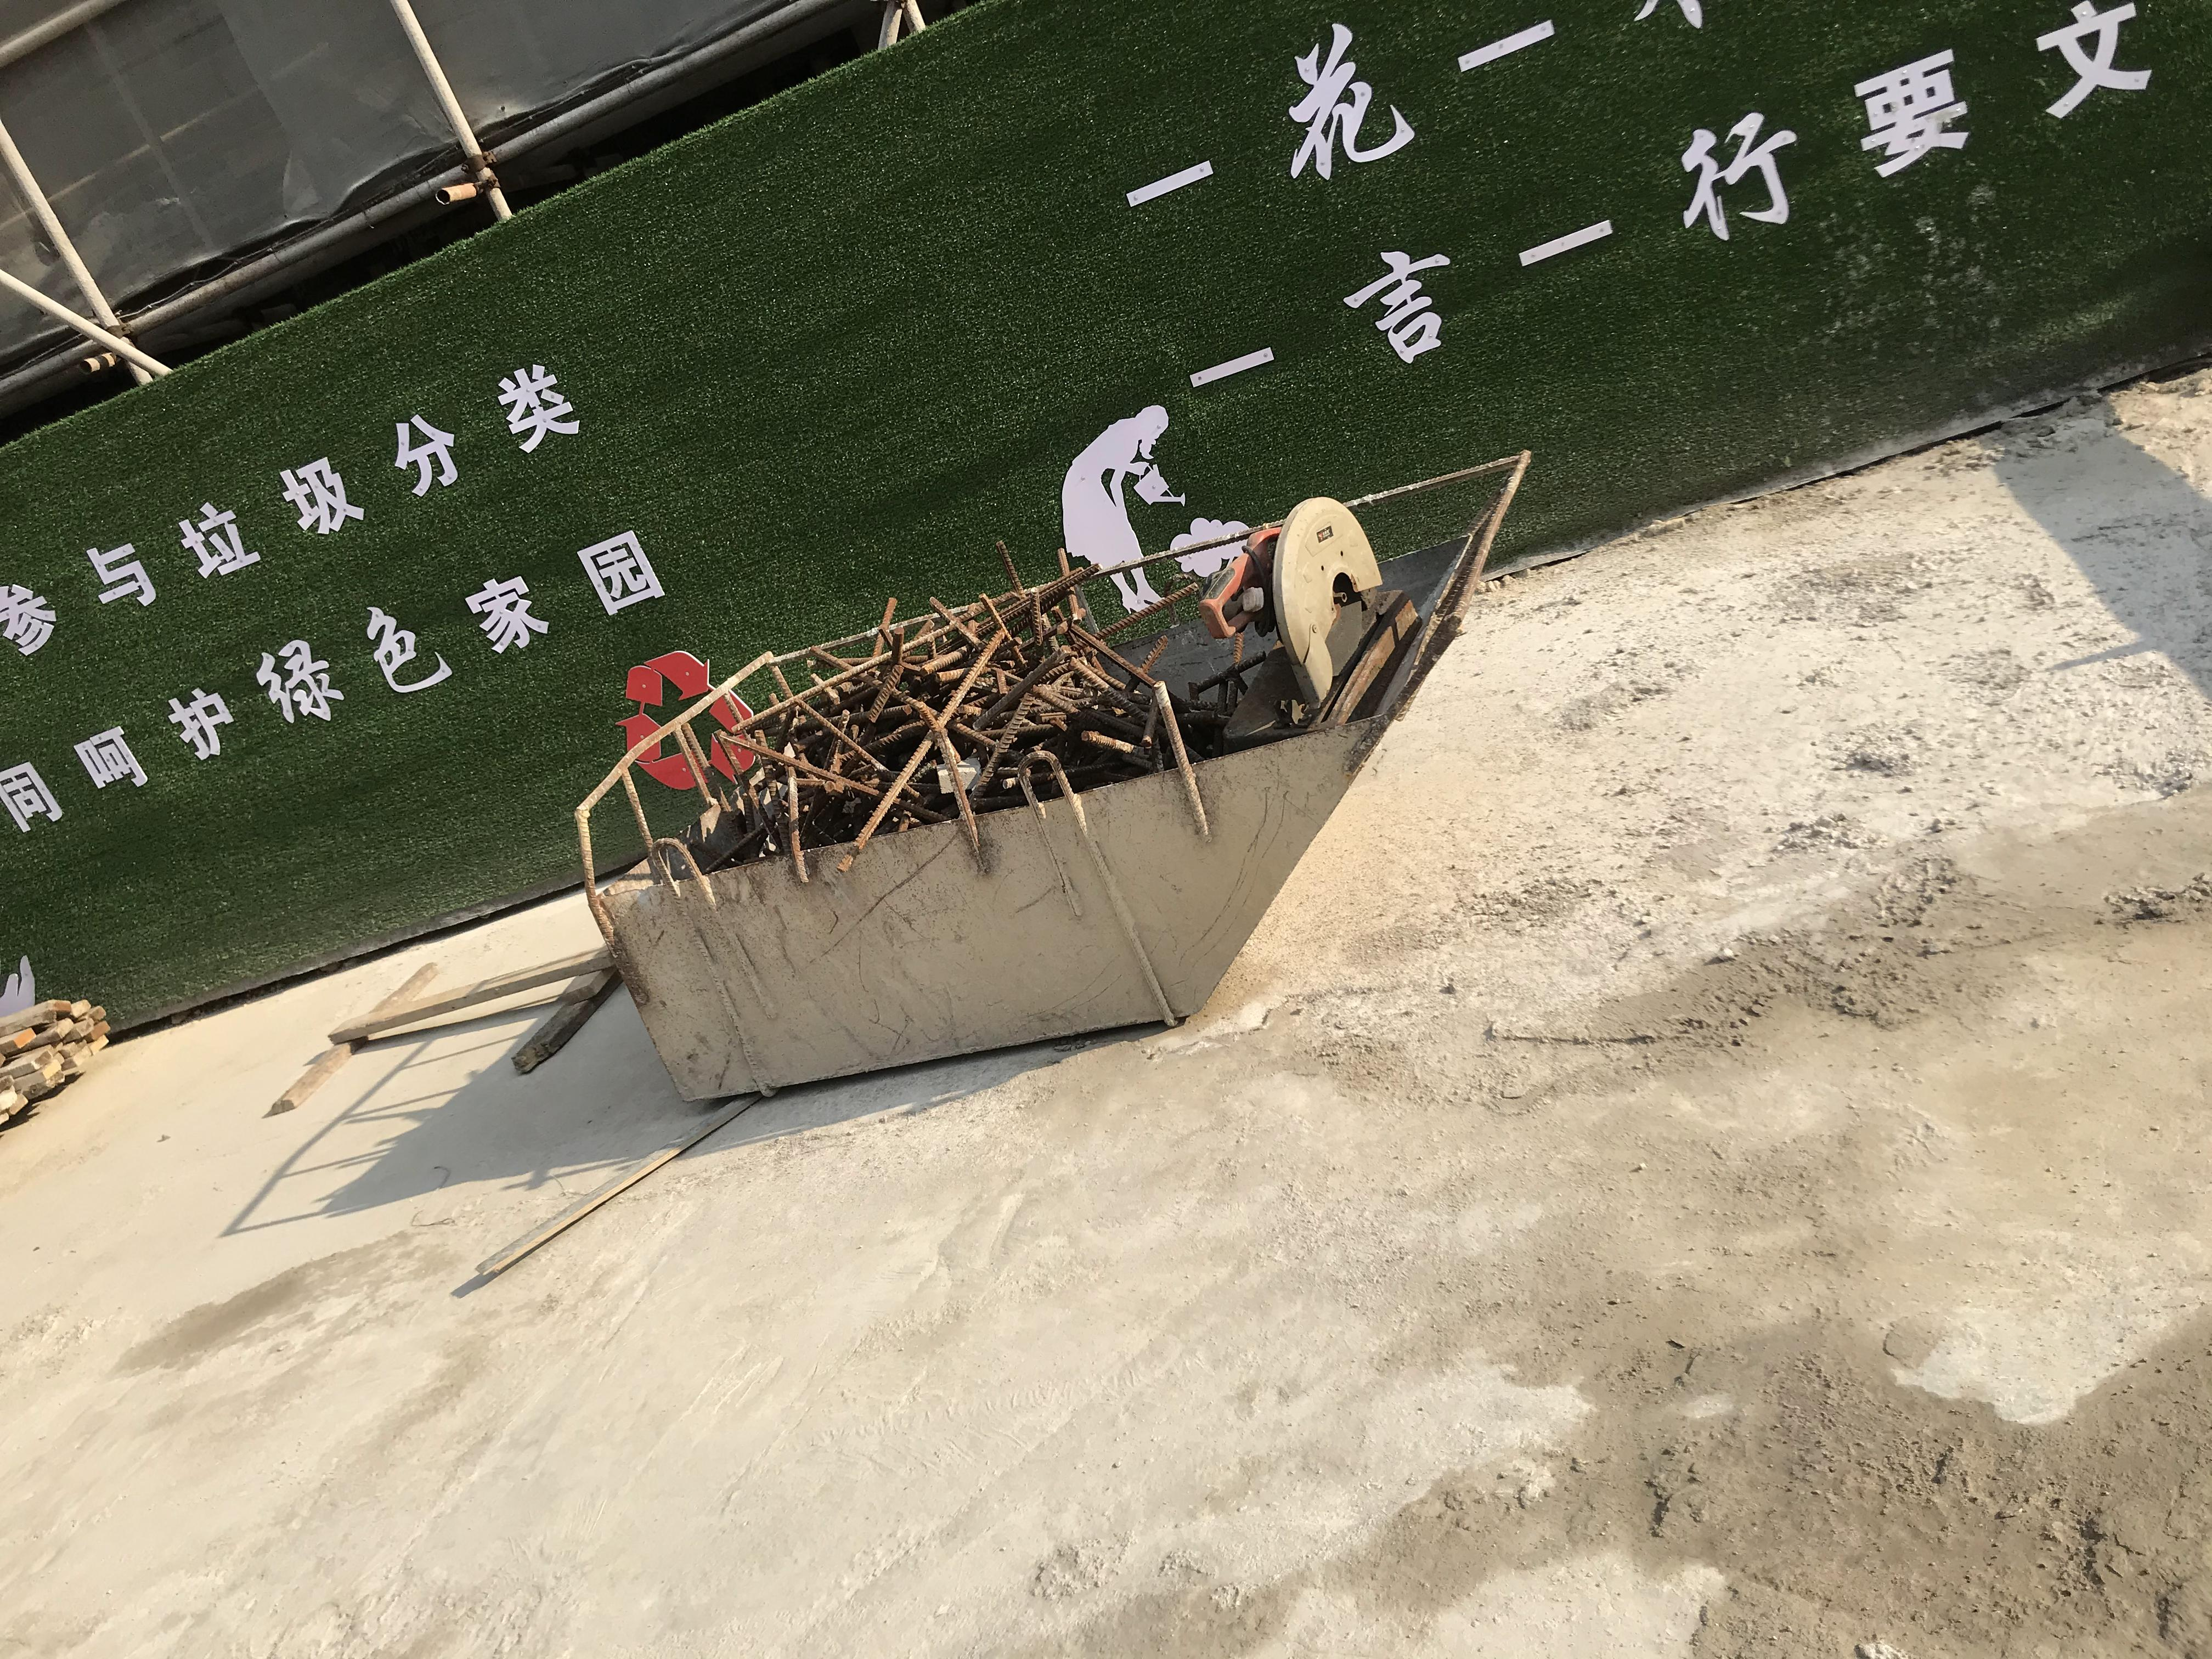hopper: (583, 451, 1534, 1121)
slogan: (1087, 0, 2195, 432), (0, 342, 702, 863)
wood: (0, 992, 124, 1136)
